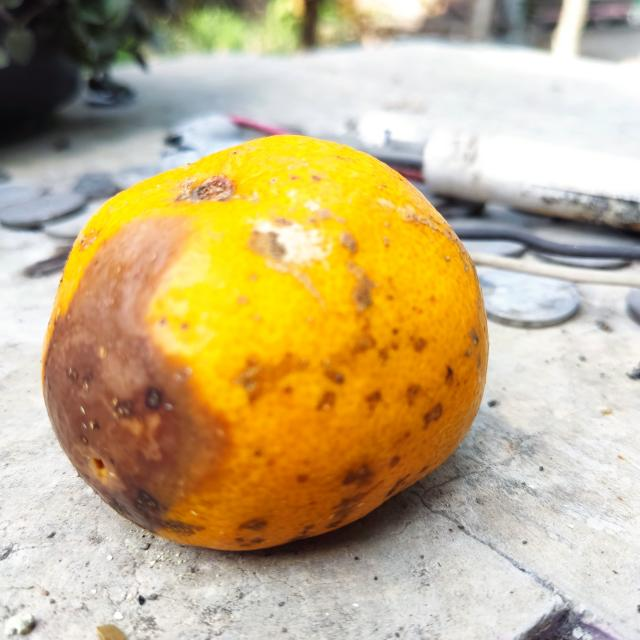orange: (41, 134, 488, 550)
